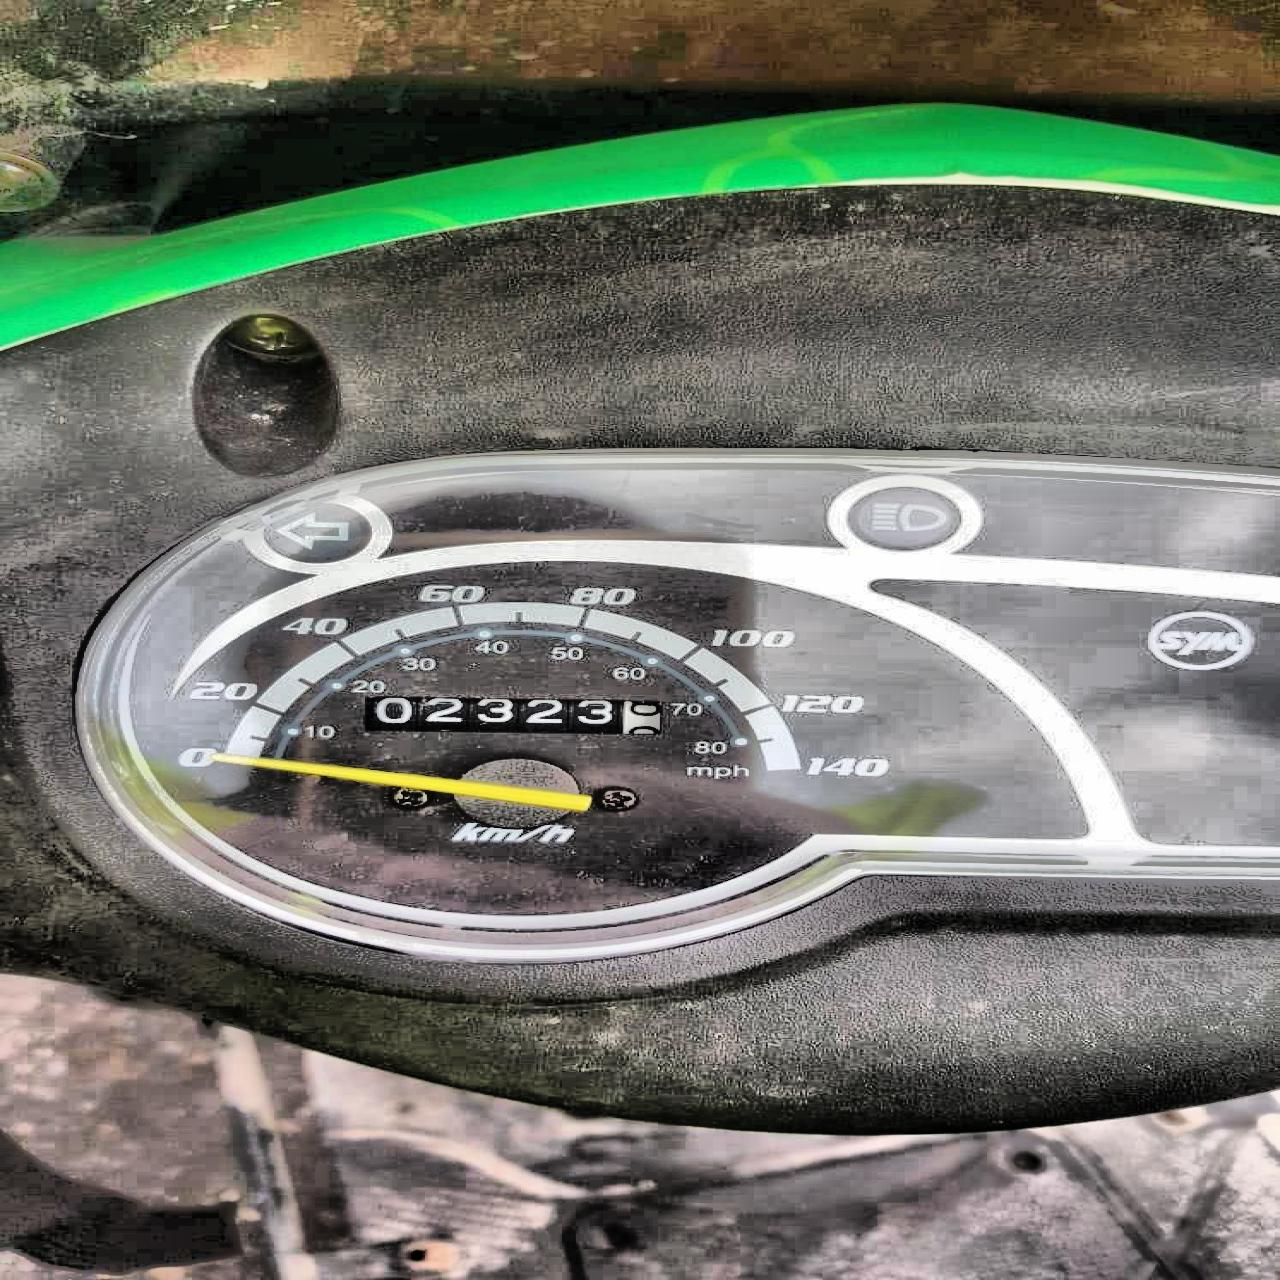0: (367, 694, 411, 726)
2: (423, 694, 464, 724), (520, 697, 564, 726)
3: (576, 697, 613, 726), (475, 696, 512, 724)
8: (624, 696, 663, 719)
odometer: (353, 690, 673, 738)
